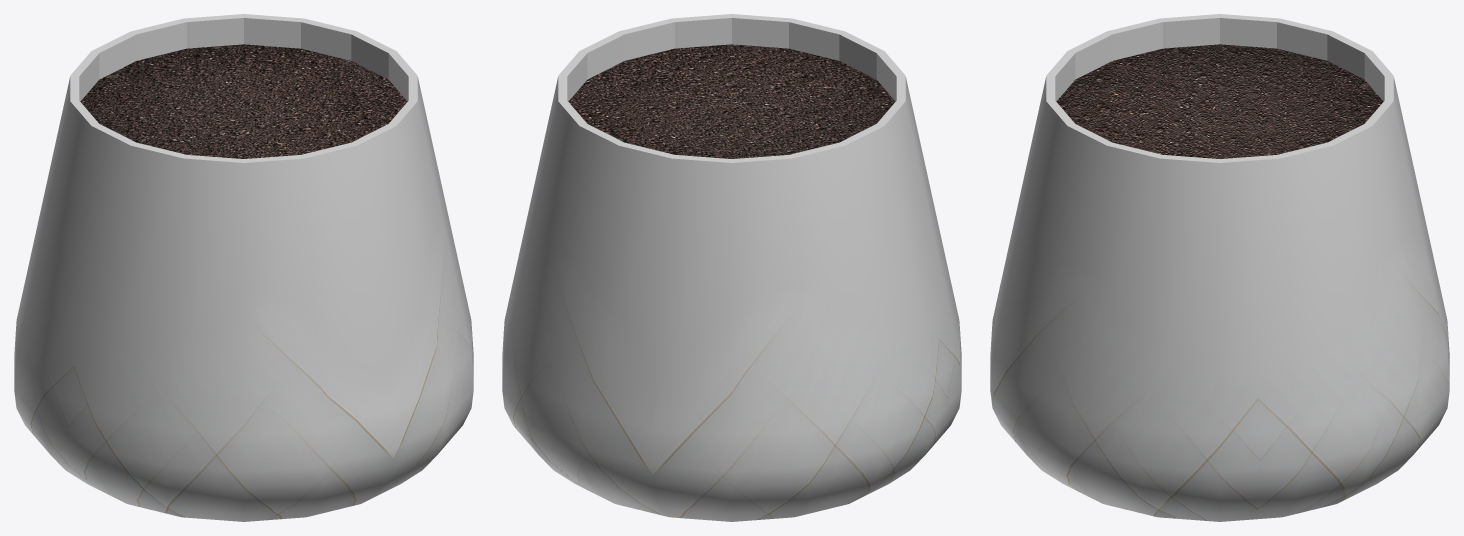
File: plant pot3a.FBX
3 views of the same model, side by side, from view 1: azimuth 30°, elevation 25°; view 2: azimuth 150°, elevation 25°; view 3: azimuth 270°, elevation 25° (orthographic).
Parts seen in each view (by area): view 1: plant pot3a; view 2: plant pot3a; view 3: plant pot3a.
Boxes of the visible parts, bbox=[...] form: plant pot3a: bbox=[14, 14, 473, 521]; plant pot3a: bbox=[502, 14, 961, 521]; plant pot3a: bbox=[990, 14, 1449, 521].
Size of the model in its own units: 12.59 by 12.4 by 10.61.
Materials: 1 (1 with a texture image).
